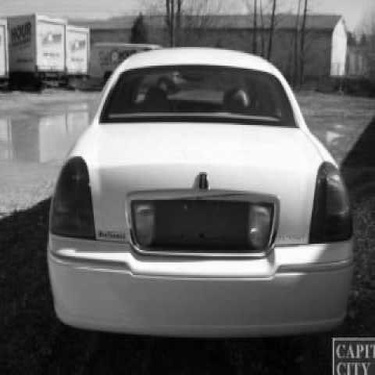car: (43, 43, 358, 342)
